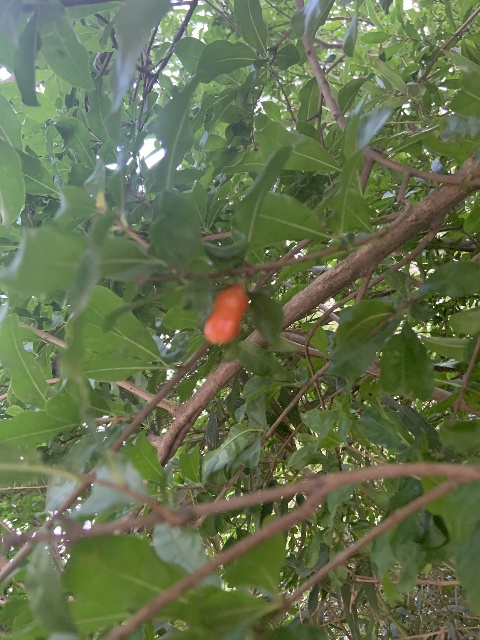bud: (203, 283, 248, 345)
